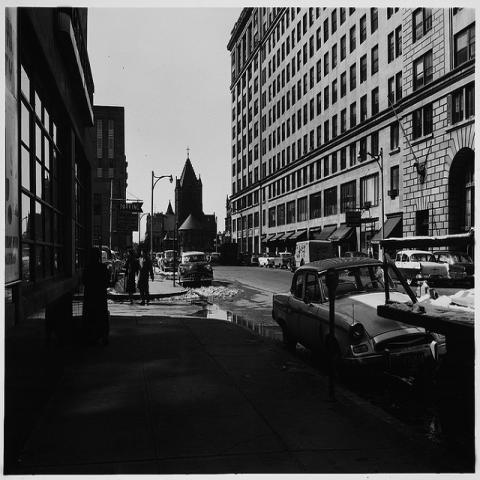car: (272, 255, 446, 376), (388, 250, 449, 284), (433, 250, 475, 286), (177, 252, 214, 287), (102, 245, 118, 286), (157, 250, 179, 272), (257, 251, 282, 268), (278, 252, 292, 269), (343, 250, 368, 258), (251, 254, 260, 266), (155, 253, 161, 261)
truck: (290, 240, 333, 273)
